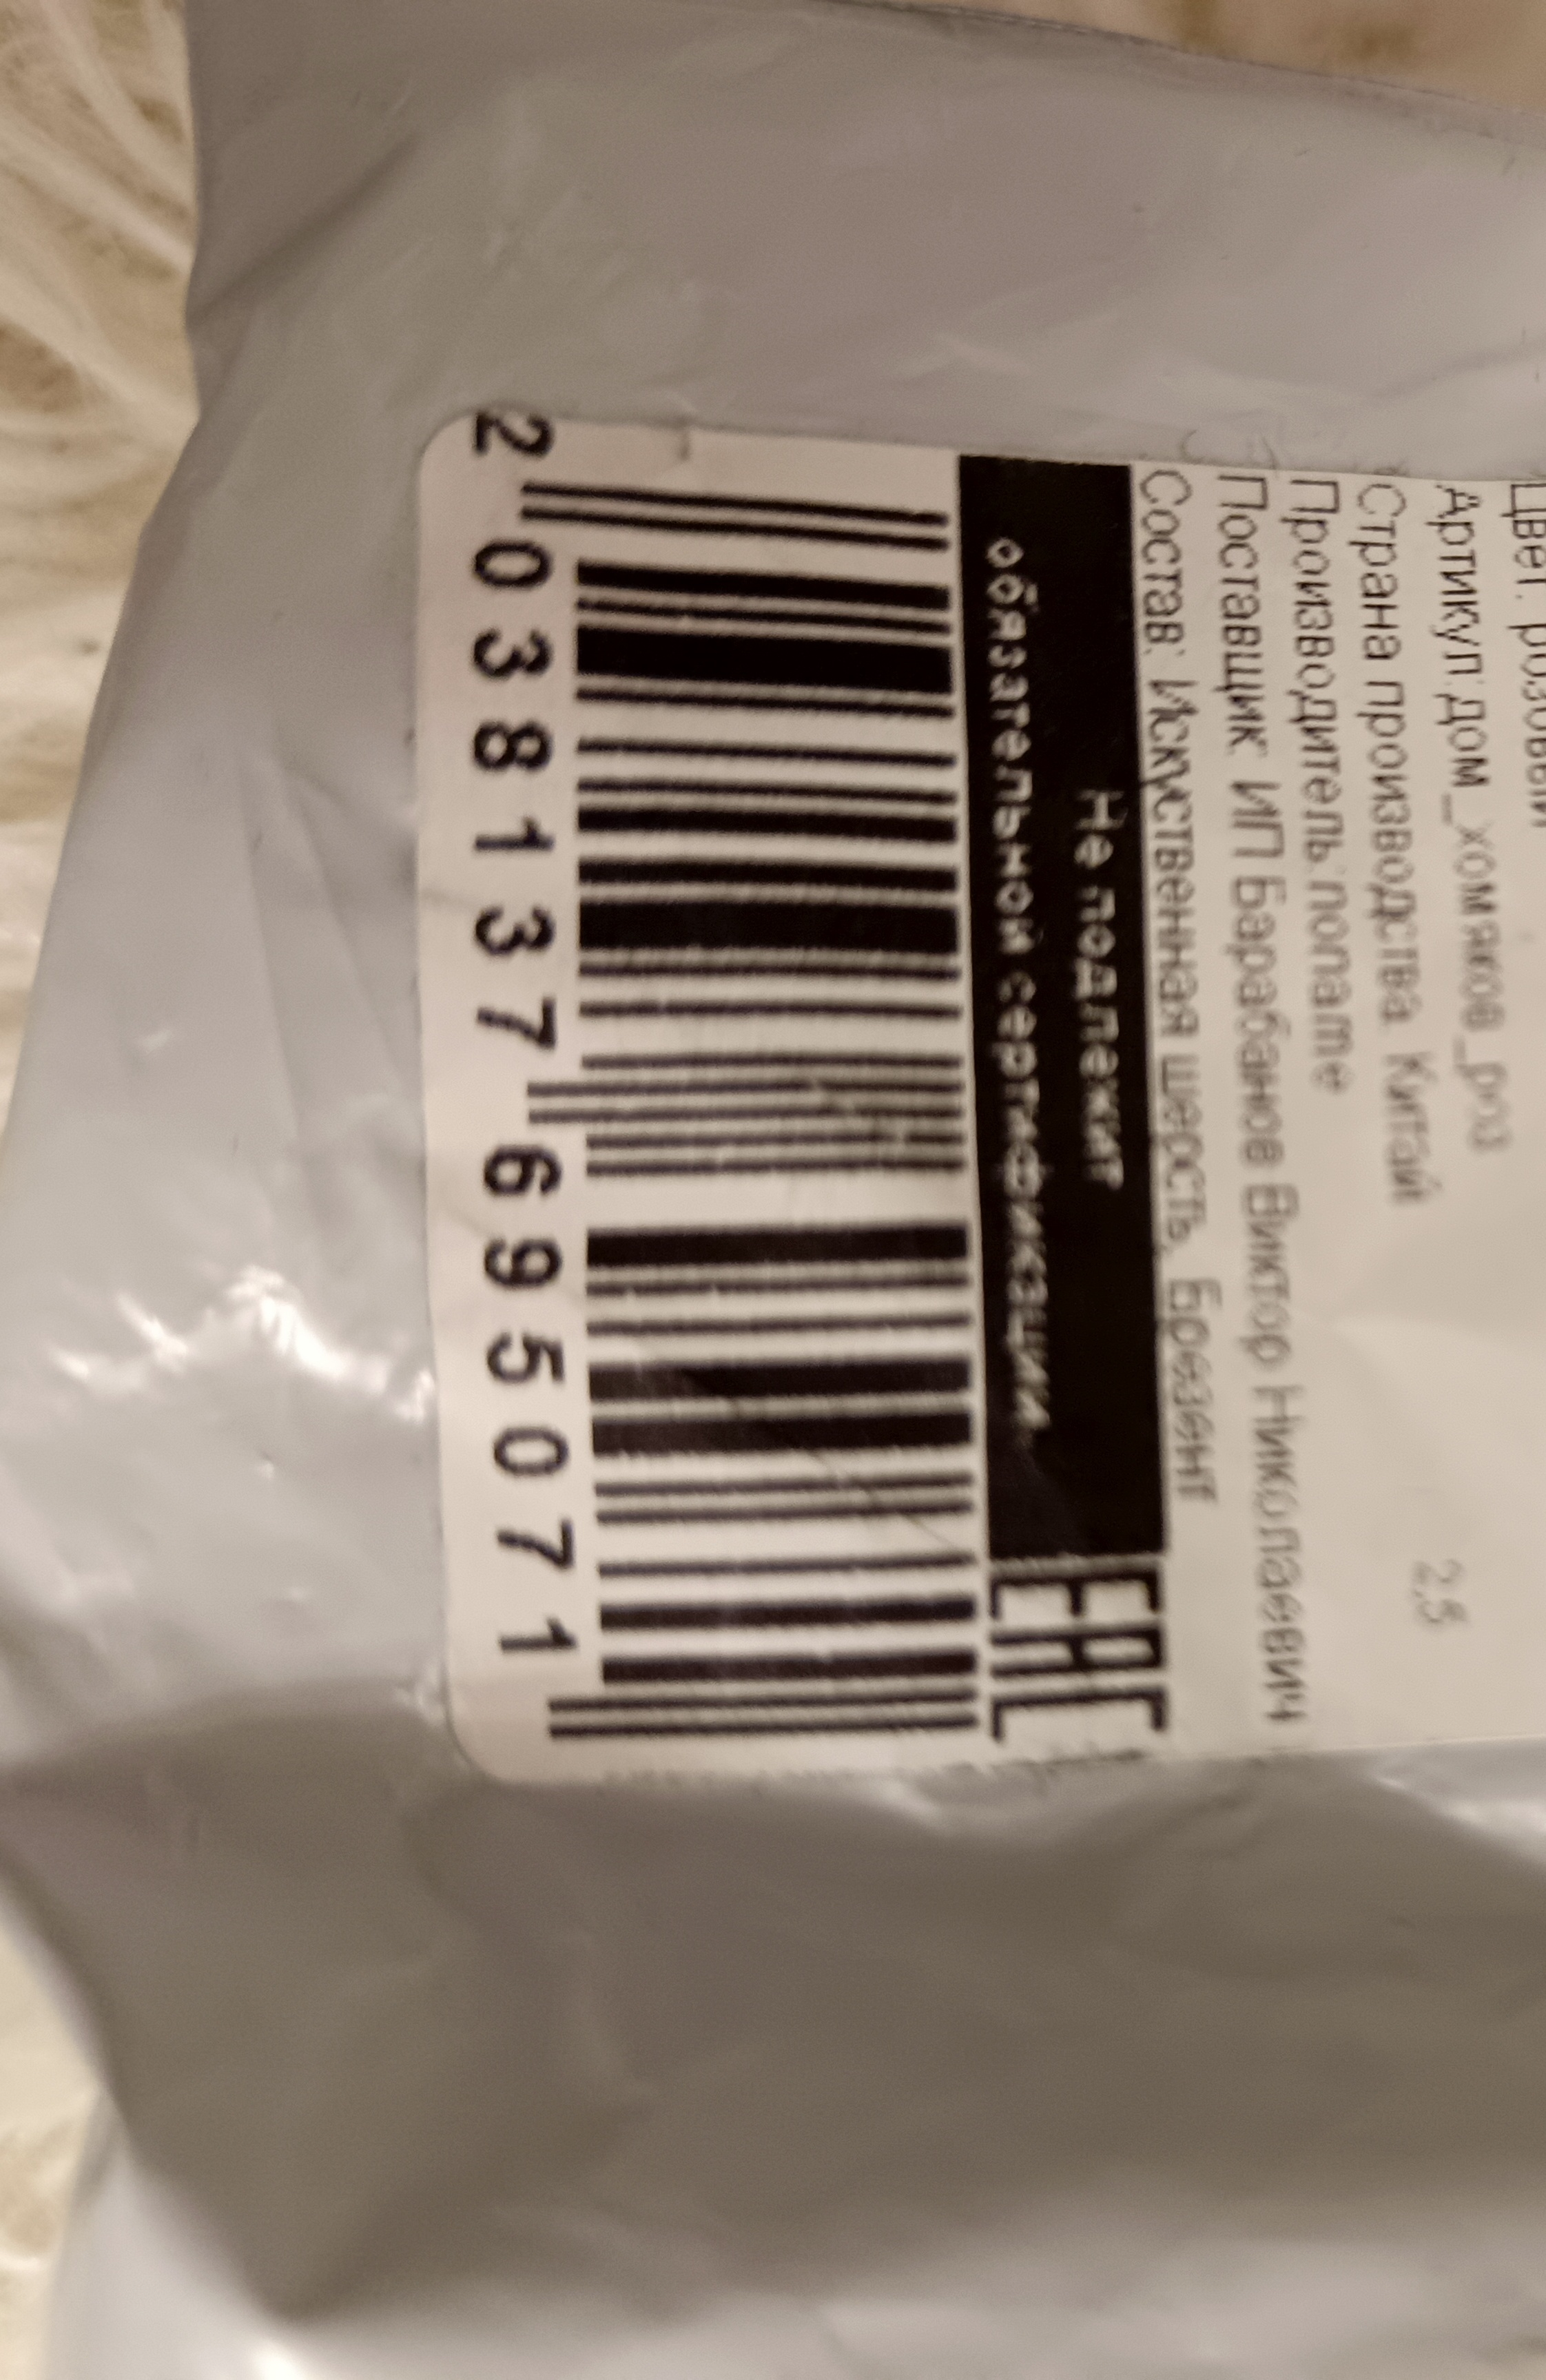1d: (576, 477, 987, 1742)
